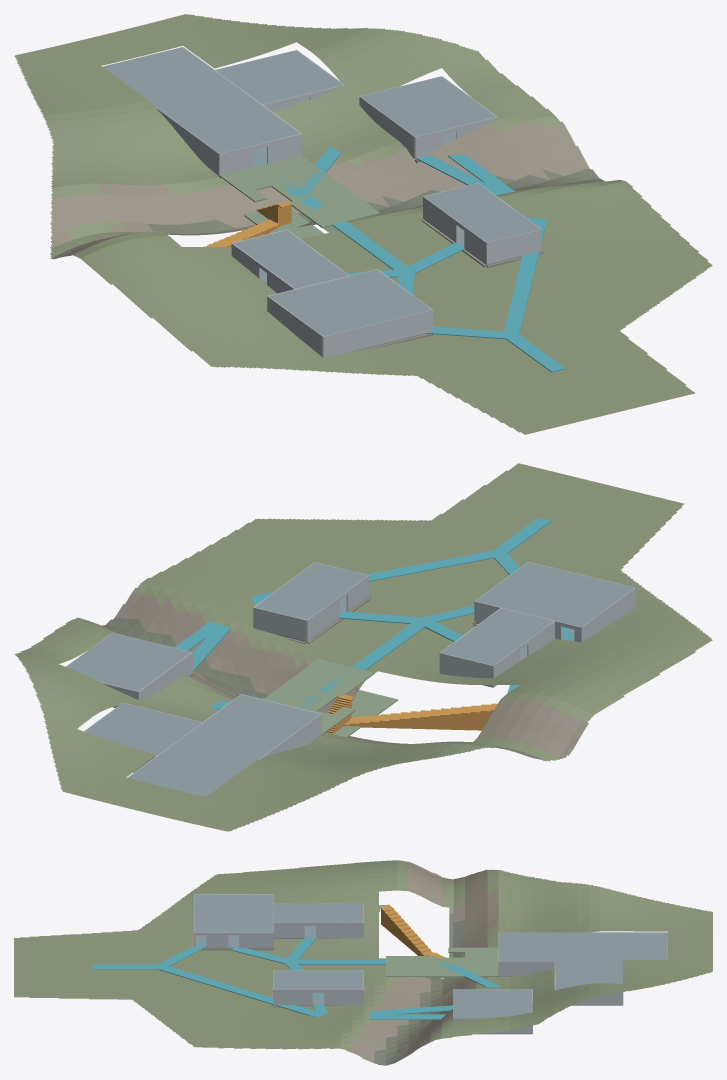
Rendered from supported-stairs.glb.
3 views of the same model, one above another, from view 1: azimuth 30°, elevation 25°; view 2: azimuth 150°, elevation 25°; view 3: azimuth 270°, elevation 25° (orthographic). The views are drawn at different scales.
Visible parts, largest first — view 1: Saved editor macroterrain WLD-12, Ceiling cap tunnel, Ceiling cap signal, Ceiling cap store, Ceiling cap refuge, Ceiling cap coach-b, Ceiling cap coach-a, Wall signal S, Floor trestle.008, L04 support 0, Floor trestle.005, Wall coach-b S (+10 smaller); view 2: Saved editor macroterrain WLD-12, Ceiling cap tunnel, Ceiling cap signal, Ceiling cap store, Ceiling cap refuge, Ceiling cap coach-b, Ceiling cap coach-a, Floor trestle.008, L04 support 0, Wall coach-b N, Floor lower, Wall signal W (+8 smaller); view 3: Saved editor macroterrain WLD-12, Ceiling cap tunnel, Ceiling cap signal, Ceiling cap store, Ceiling cap coach-b, Ceiling cap coach-a, Ceiling cap refuge, L04 support 0, Floor trestle.008, Wall coach-a E, Wall tunnel E.001, Wall coach-b E (+14 smaller).
Part boxes in pixels (left/top/right/bottom): Saved editor macroterrain WLD-12: left=14, top=14, right=712, bottom=434; Ceiling cap tunnel: left=102, top=47, right=299, bottom=153; Ceiling cap signal: left=269, top=269, right=432, bottom=336; Ceiling cap store: left=360, top=76, right=496, bottom=136; Ceiling cap refuge: left=215, top=50, right=342, bottom=104; Ceiling cap coach-b: left=424, top=183, right=540, bottom=242; Ceiling cap coach-a: left=233, top=230, right=349, bottom=288; Wall signal S: left=323, top=310, right=432, bottom=357; Floor trestle.008: left=293, top=188, right=380, bottom=226; L04 support 0: left=503, top=218, right=546, bottom=335; Floor trestle.005: left=248, top=155, right=324, bottom=185; Wall coach-b S: left=486, top=229, right=541, bottom=264; Saved editor macroterrain WLD-12: left=14, top=463, right=712, bottom=831; Ceiling cap tunnel: left=128, top=694, right=320, bottom=796; Ceiling cap signal: left=475, top=562, right=634, bottom=627; Ceiling cap store: left=66, top=633, right=191, bottom=691; Ceiling cap refuge: left=84, top=703, right=202, bottom=755; Ceiling cap coach-b: left=255, top=562, right=367, bottom=619; Ceiling cap coach-a: left=440, top=608, right=553, bottom=665; Floor trestle.008: left=285, top=659, right=369, bottom=695; L04 support 0: left=250, top=550, right=501, bottom=602; Wall coach-b N: left=253, top=607, right=306, bottom=641; Floor lower: left=326, top=690, right=397, bottom=737; Wall signal W: left=581, top=588, right=635, bottom=641; Saved editor macroterrain WLD-12: left=14, top=860, right=712, bottom=1065; Ceiling cap tunnel: left=498, top=932, right=667, bottom=960; Ceiling cap signal: left=194, top=894, right=273, bottom=932; Ceiling cap store: left=453, top=989, right=532, bottom=1018; Ceiling cap coach-b: left=273, top=970, right=363, bottom=989; Ceiling cap coach-a: left=273, top=903, right=363, bottom=922; Ceiling cap refuge: left=555, top=961, right=622, bottom=989; L04 support 0: left=157, top=965, right=324, bottom=1017; Floor trestle.008: left=386, top=957, right=434, bottom=976; Wall coach-a E: left=316, top=922, right=363, bottom=938; Wall tunnel E.001: left=498, top=961, right=554, bottom=976; Wall coach-b E: left=324, top=989, right=363, bottom=1004.
Bounding box in the file's own units: 75 × 10.11 × 124.
